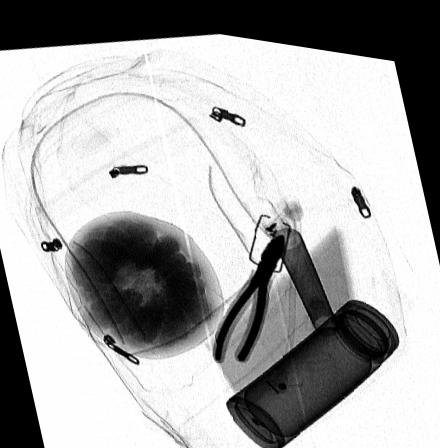Pliers: (212, 222, 284, 357)
